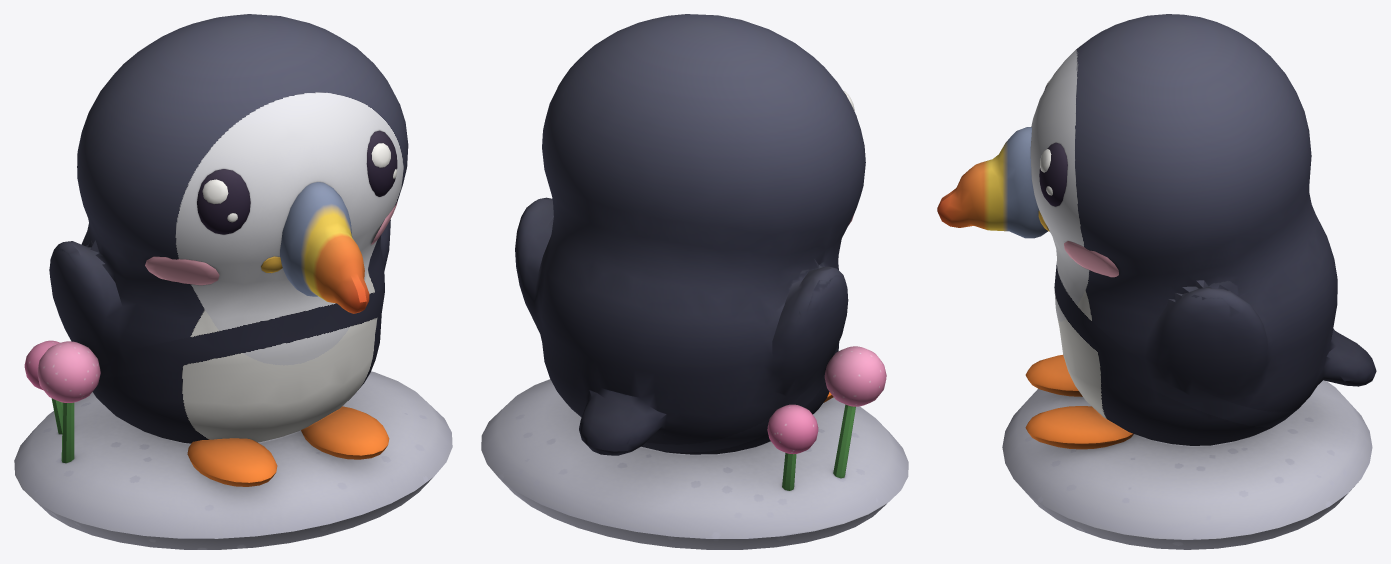
The model's file is creature_puffin.fbx.
3 views of the same model, side by side, from view 1: azimuth 30°, elevation 25°; view 2: azimuth 150°, elevation 25°; view 3: azimuth 270°, elevation 25° (orthographic). The views are drawn at different scales.
Visible parts, largest first — view 1: creature_puffin; view 2: creature_puffin; view 3: creature_puffin.
Part boxes in pixels (bbox=[...]): creature_puffin: bbox=[14, 14, 452, 549]; creature_puffin: bbox=[481, 14, 908, 549]; creature_puffin: bbox=[937, 14, 1376, 549].
Size of the model in its own units: 260 by 300 by 260.
Materials: 1 (1 with a texture image).
